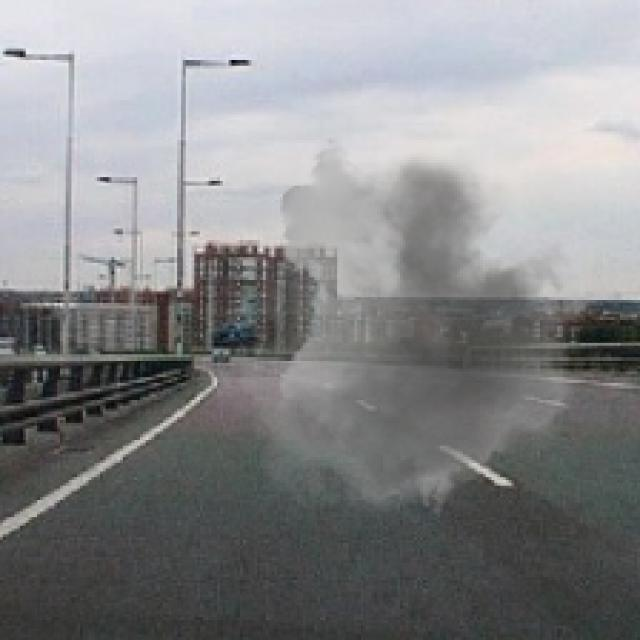Smoke: (195, 122, 614, 528)
